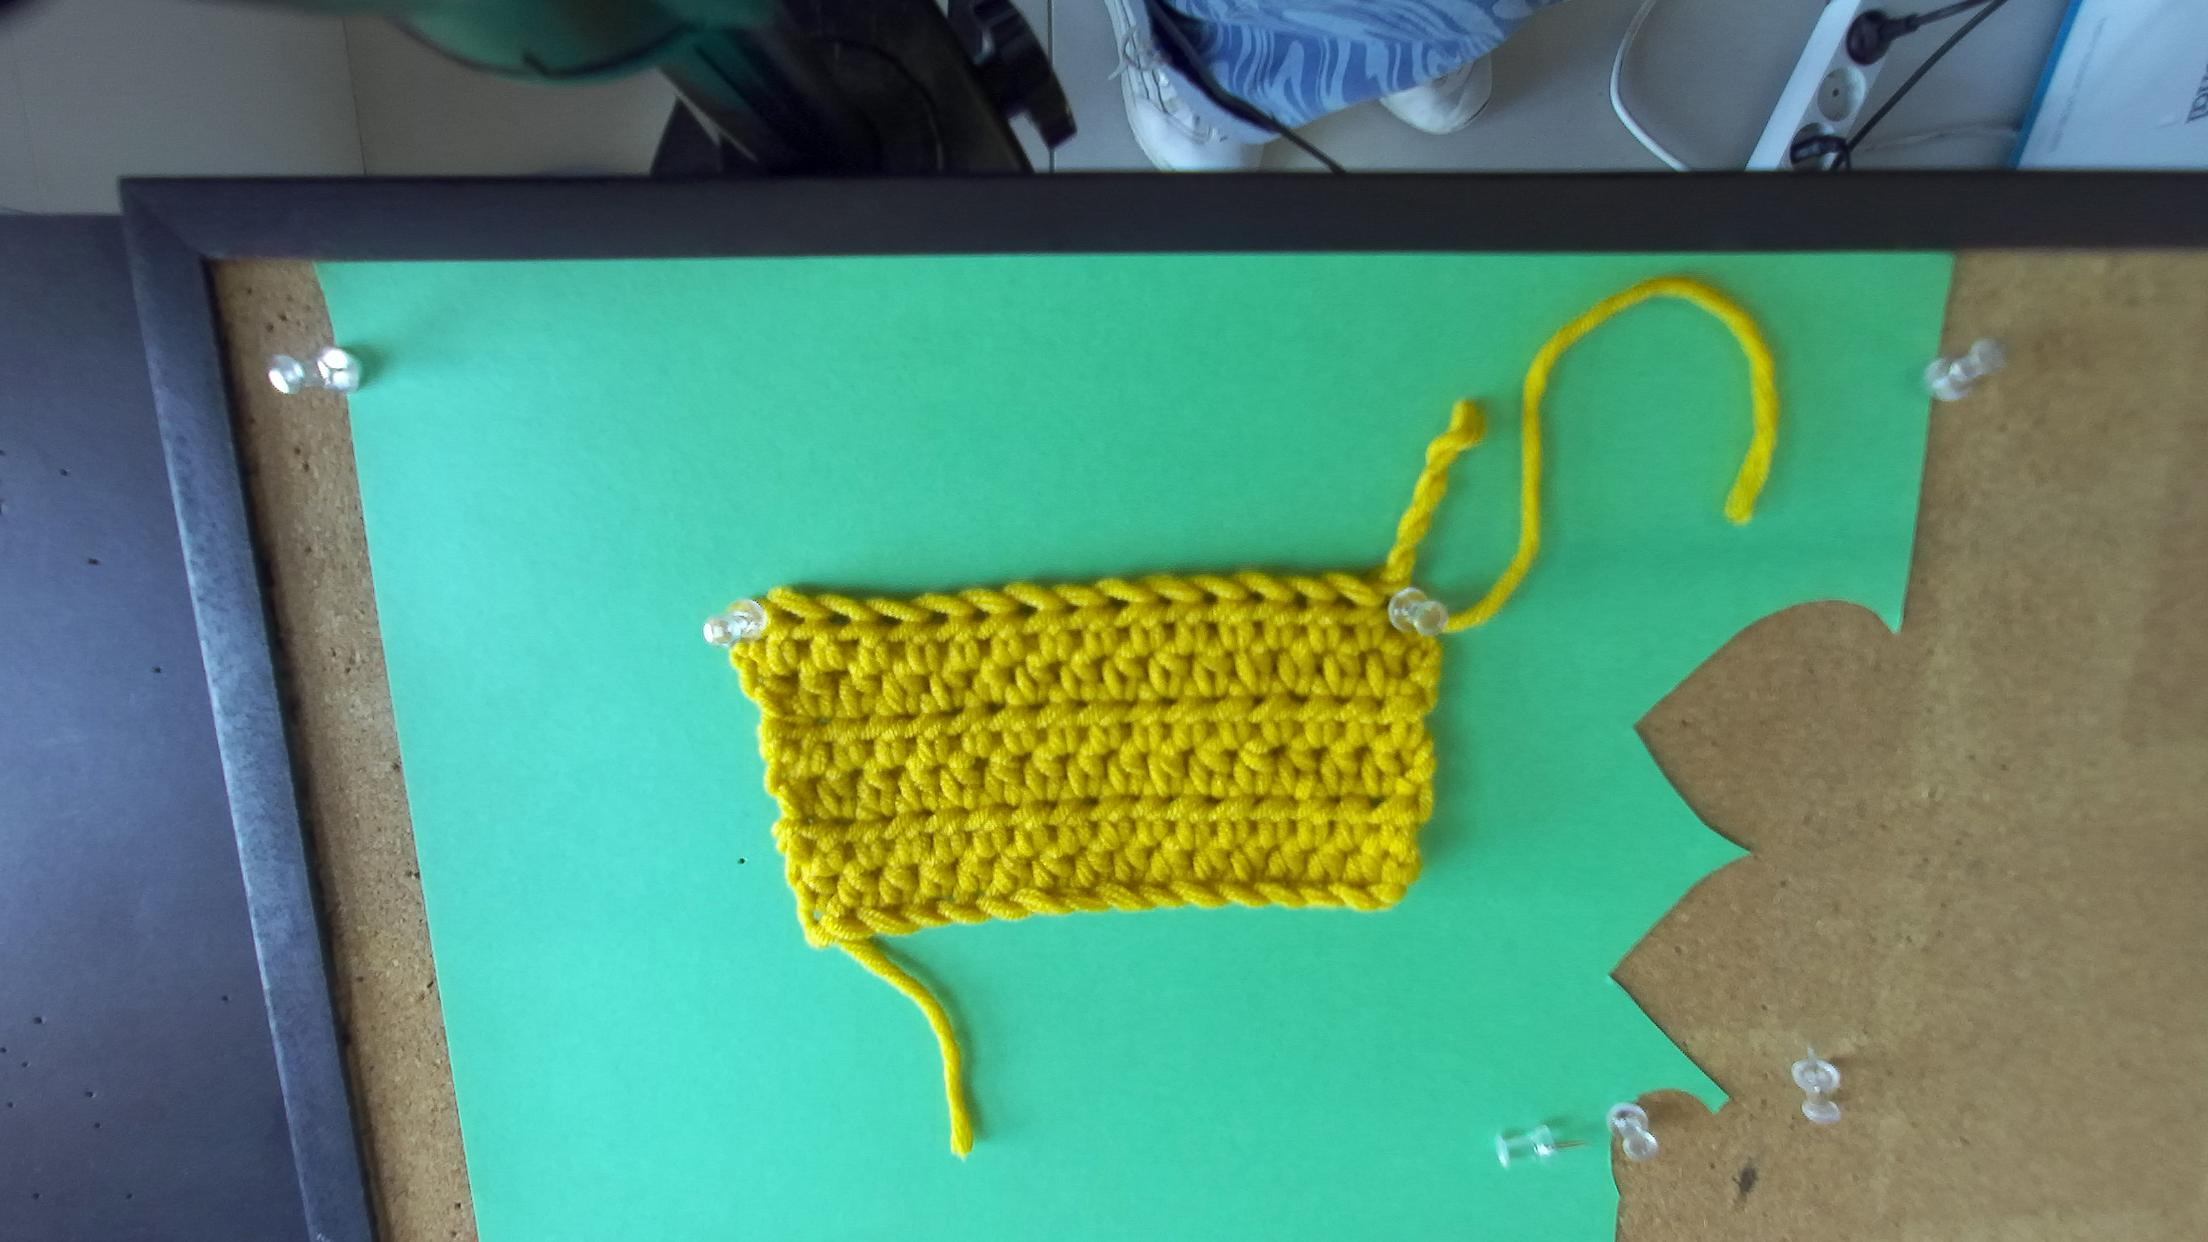hole: (1106, 594, 1134, 616), (1010, 601, 1042, 617), (779, 608, 807, 626), (1330, 590, 1357, 608), (825, 611, 852, 626), (878, 614, 904, 628), (927, 611, 951, 625), (1062, 601, 1083, 614), (972, 607, 990, 622), (1200, 591, 1218, 607), (1156, 593, 1174, 607), (1247, 591, 1265, 605), (1294, 590, 1307, 608)
swatch: (701, 569, 1447, 955)
